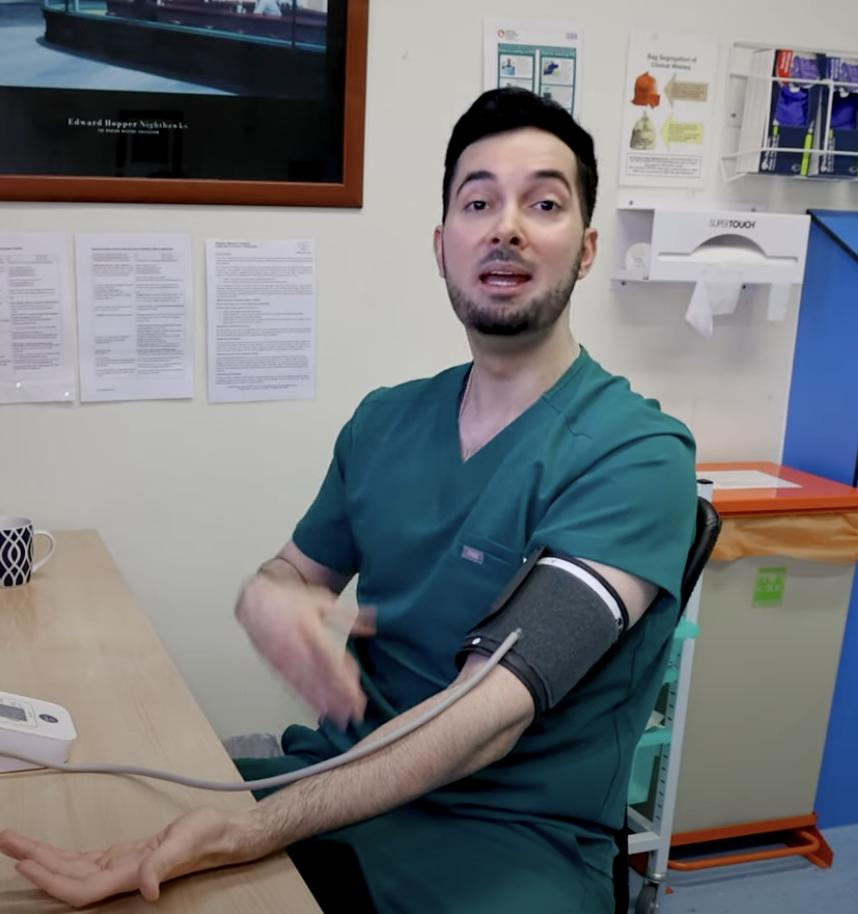cuff: (460, 553, 621, 714)
